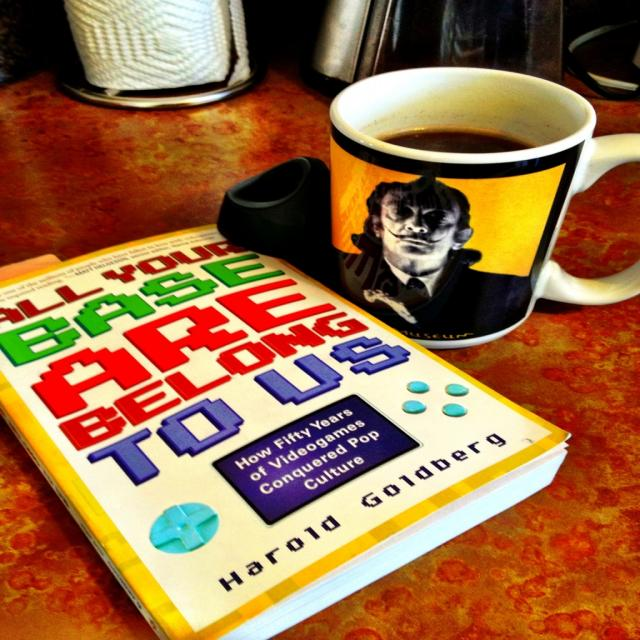Coffee: (374, 127, 534, 155)
Tea: (369, 125, 546, 157)
